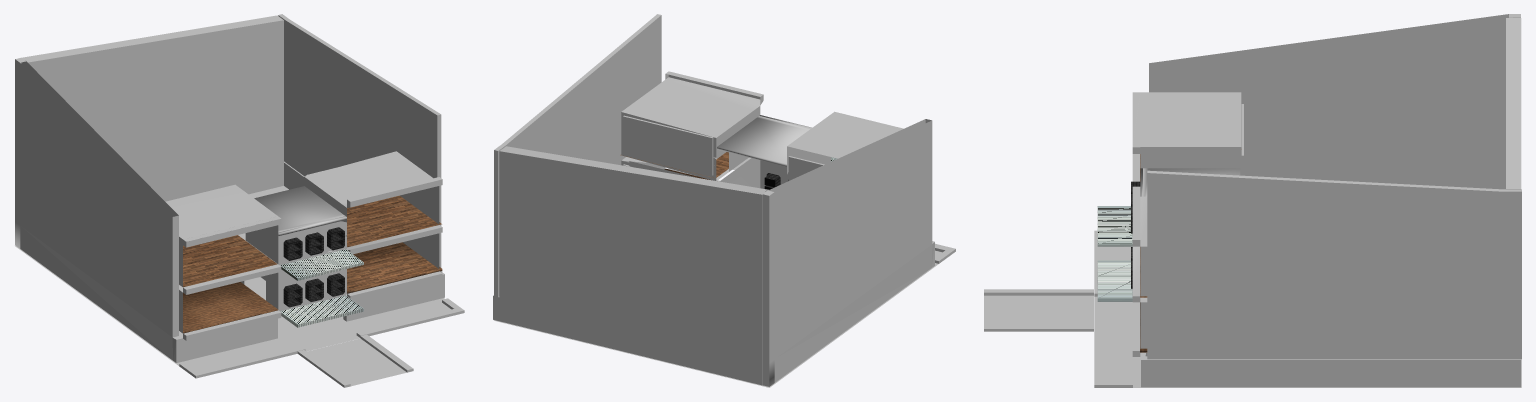
The model's file is EstructuraFinal.fbx.
3 renders of one model, left to right at view 1: azimuth 30°, elevation 25°; view 2: azimuth 150°, elevation 25°; view 3: azimuth 270°, elevation 25°, orthographic. The views are drawn at different scales.
Parts seen in each view (by area): view 1: EstructuraMall; view 2: EstructuraMall; view 3: EstructuraMall.
Part boxes in pixels (x1,y1,x2,y2): EstructuraMall: (15, 14, 464, 387); EstructuraMall: (493, 14, 955, 387); EstructuraMall: (984, 14, 1521, 387).
Size of the model in its own units: 2587 by 1714 by 3800.
